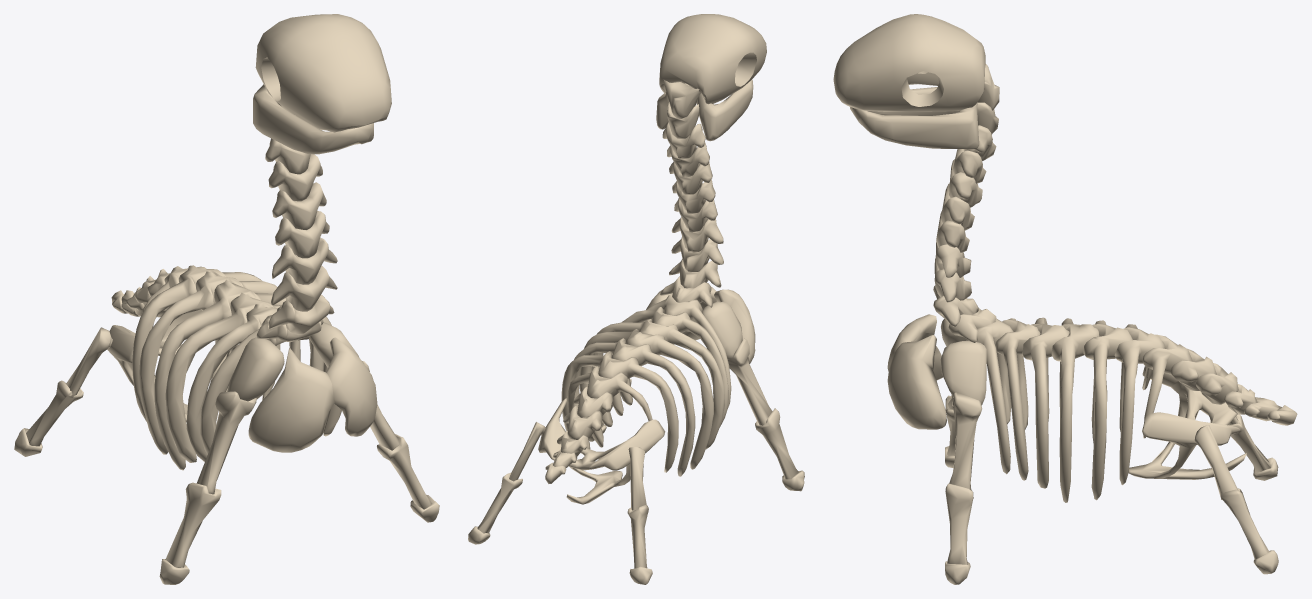
The model's file is furn_dino.glb.
3 renders of one model, left to right at view 1: azimuth 30°, elevation 25°; view 2: azimuth 150°, elevation 25°; view 3: azimuth 270°, elevation 25°, orthographic. The views are drawn at different scales.
Visible parts, largest first — view 1: Cube.006_Bone_0; view 2: Cube.006_Bone_0; view 3: Cube.006_Bone_0.
Part boxes in pixels (left/top/right/bottom): Cube.006_Bone_0: left=14, top=14, right=439, bottom=584; Cube.006_Bone_0: left=468, top=14, right=804, bottom=584; Cube.006_Bone_0: left=833, top=14, right=1297, bottom=584.
Size of the model in its own units: 8.28 by 15.74 by 13.09.
